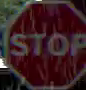Stop: (6, 3, 85, 89)
